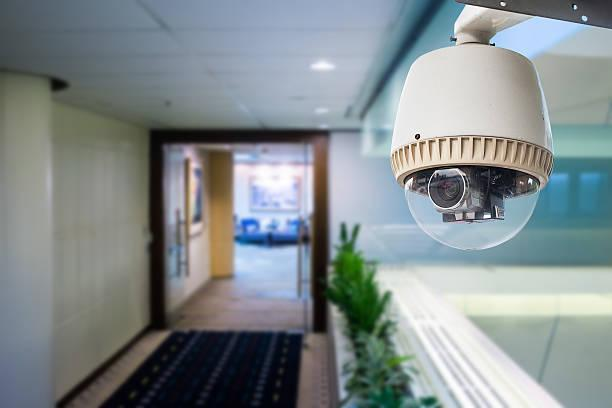camera: (358, 2, 576, 300)
